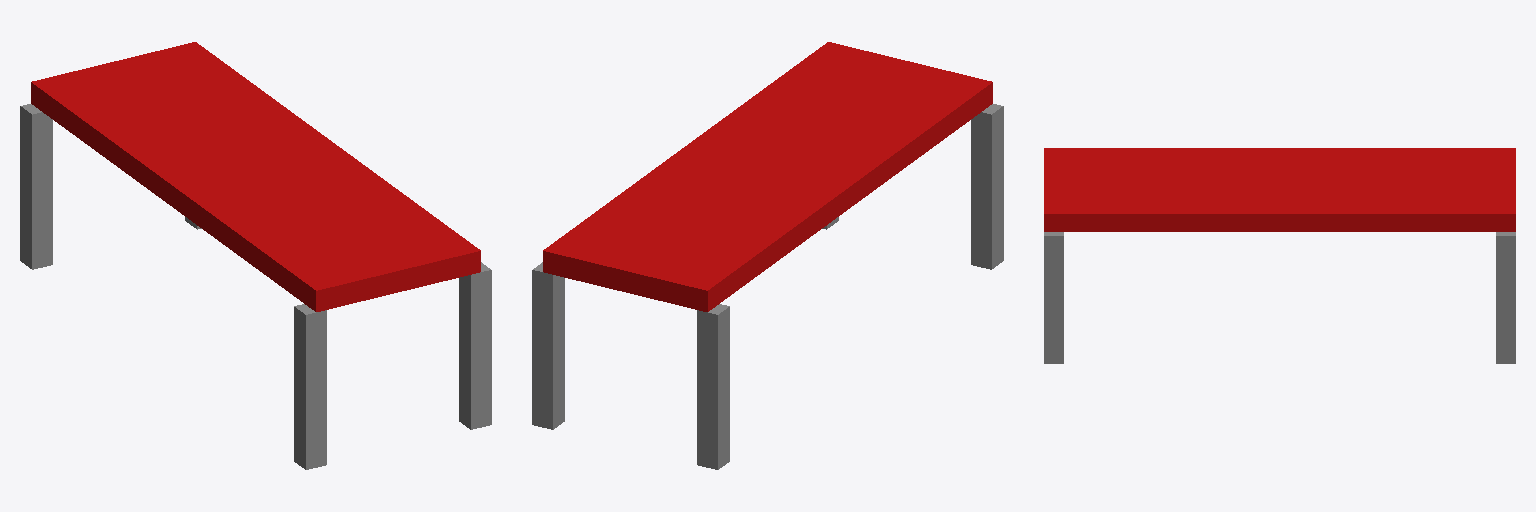
URDF robot description (robocon_2027_low_frame_stage1_training_marker):
<?xml version="1.0"?>
<!--
  Collision-free visual marker for Stage-1 low-crawl pretraining.
  The environment still evaluates the exact conceptual 0.36 x 1.10 x 0.40 m
  envelope from robot collision AABBs.  Removing hard contact lets PPO learn
  the crouched gait from dense shaping before returning to the physical frame.
-->
<robot name="robocon_2027_low_frame_stage1_training_marker">
  <link name="low_frame">
    <visual name="roof_vis">
      <origin xyz="0.20 0 0"/>
      <geometry><box size="0.40 1.20 0.05"/></geometry>
      <material name="transparent_red"><color rgba="0.8 0.1 0.1 0.35"/></material>
    </visual>
    <visual name="entry_post_pos_y_vis"><origin xyz="0 0.575 -0.205"/><geometry><box size="0.05 0.05 0.36"/></geometry><material name="grey"><color rgba="0.6 0.6 0.6 0.35"/></material></visual>
    <visual name="entry_post_neg_y_vis"><origin xyz="0 -0.575 -0.205"/><geometry><box size="0.05 0.05 0.36"/></geometry><material name="grey"/></visual>
    <visual name="exit_post_pos_y_vis"><origin xyz="0.40 0.575 -0.205"/><geometry><box size="0.05 0.05 0.36"/></geometry><material name="grey"/></visual>
    <visual name="exit_post_neg_y_vis"><origin xyz="0.40 -0.575 -0.205"/><geometry><box size="0.05 0.05 0.36"/></geometry><material name="grey"/></visual>
  </link>
</robot>

--- What the picture shows (computed from the rendered views, not written in the file) ---
3 views of the same robot in one strip: view 1: azimuth 30°, elevation 25°; view 2: azimuth 150°, elevation 25°; view 3: azimuth 270°, elevation 25° (orthographic).
Robot: robocon_2027_low_frame_stage1_training_marker — 1 links, 0 joints (none); root link low_frame; default pose: all joints at 0.
Visible links, largest first — view 1: low_frame; view 2: low_frame; view 3: low_frame.
Boxes of the visible links, x1=… form: low_frame: x1=20, y1=42, x2=491, y2=469; low_frame: x1=532, y1=42, x2=1003, y2=469; low_frame: x1=1044, y1=148, x2=1515, y2=363.
Size in the robot's own frame: 0.45 by 1.2 by 0.41 metres.
Geometry: primitives only (box / cylinder / sphere), no mesh files.
